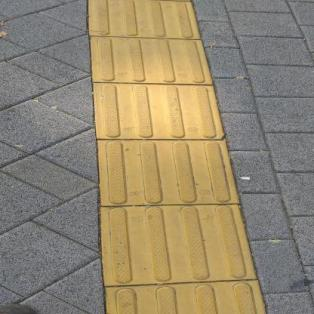Podoctatil: (75, 0, 277, 313)
